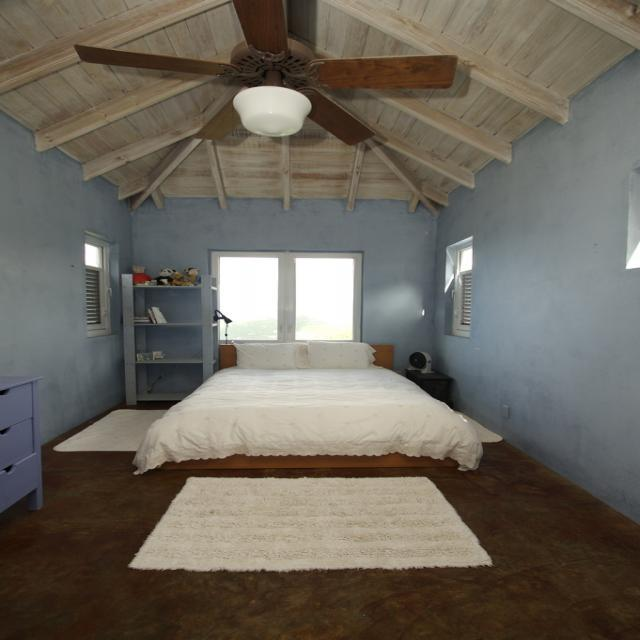fan_off: (76, 4, 458, 144)
